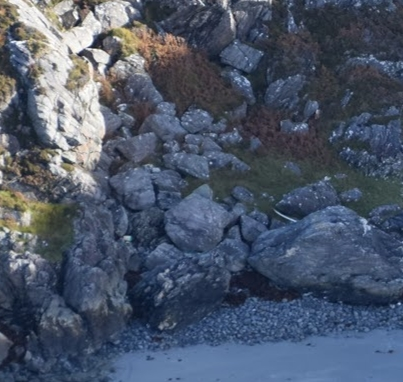tube: (267, 197, 303, 228)
white_in_green: (111, 220, 144, 251)
